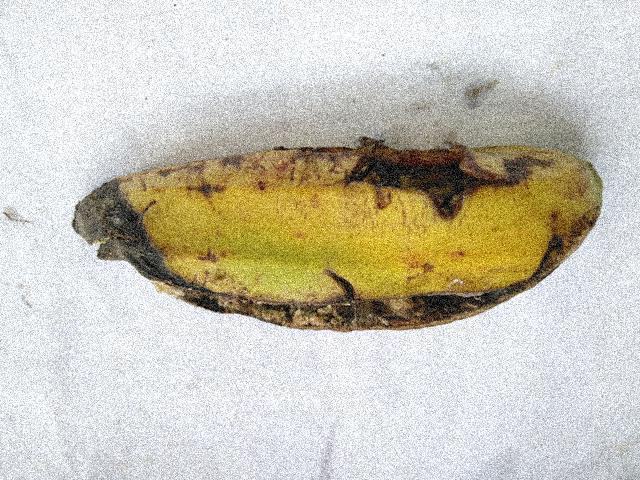rotten: (49, 101, 596, 351)
